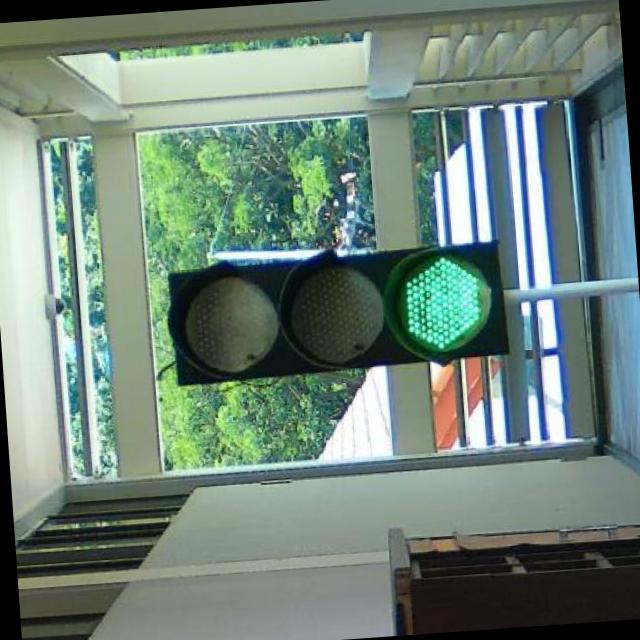green-lights: (388, 246, 498, 363)
